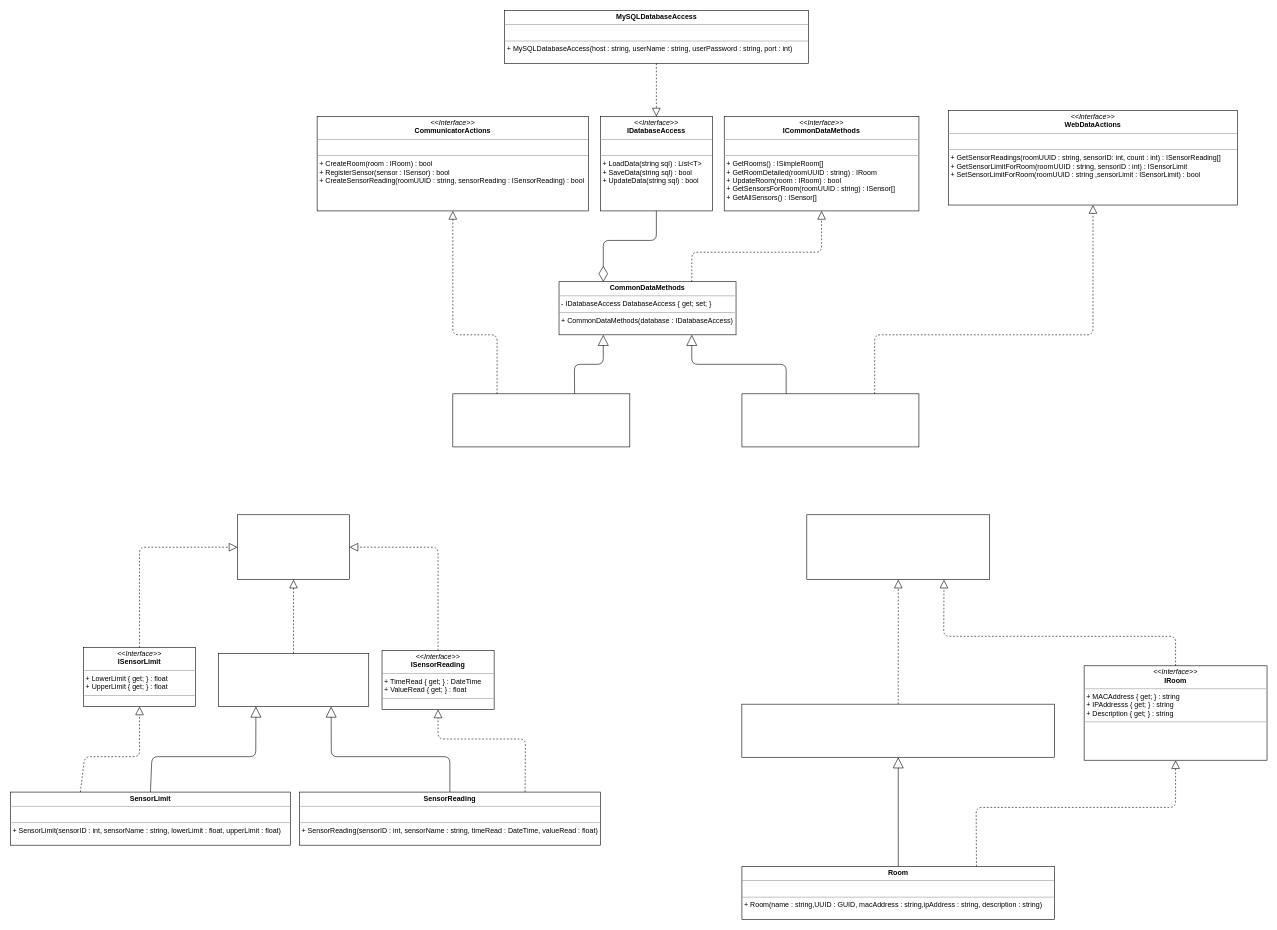
Image size: 1277x930. Some labels were removed from this diagram. Here are the shapes that lost their labels. From the top down, the centre of each, then its label:
point (541, 420): CommunicatorActions + CommunicatorActions(database : IDatabaseAccess)
point (830, 420): WebDataActions + WebDataActions(database : IDatabaseAccess)
point (293, 547): <<Interface>> ISensor + SensorID { get; } : int + SensorName { get; } : string
point (898, 547): <<Interface>> ISimpleRoom + Name { get; }: string + UUID {get; } : GUID
point (293, 680): Sensor + Room(sensorID : int, sensorName : string)
point (898, 730): SimpleRoom + SimpleRoom(name : string,UUID : GUID)
